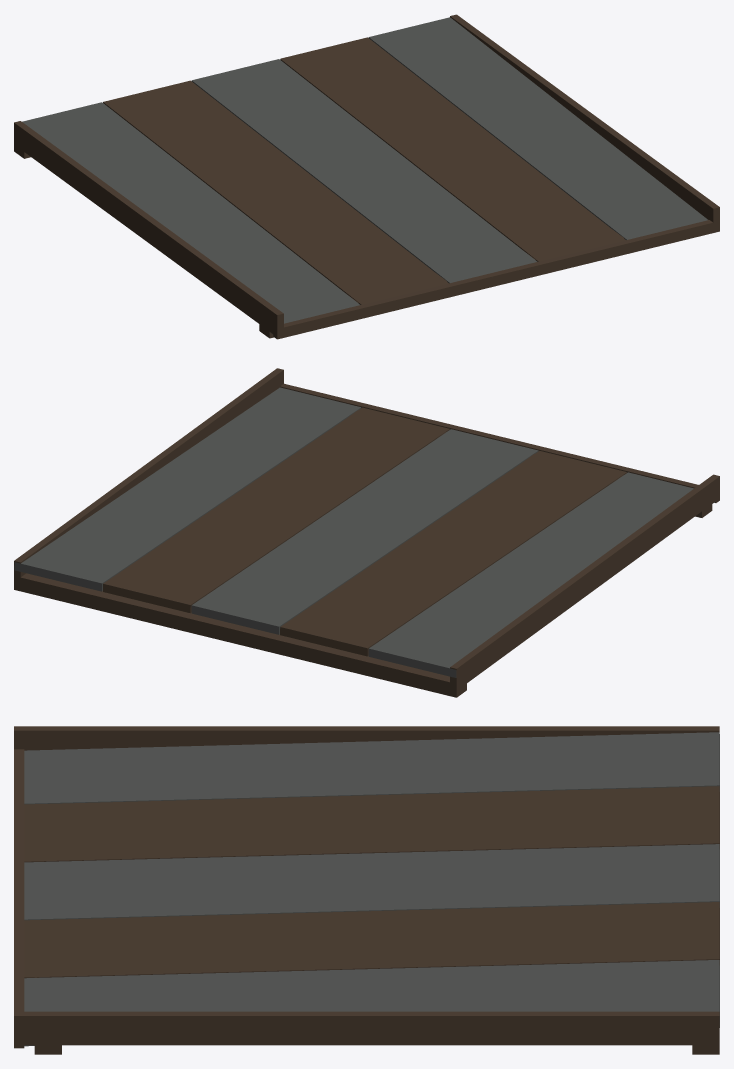
File: base_roof.glb
3 views of the same model, one above another, from view 1: azimuth 30°, elevation 25°; view 2: azimuth 150°, elevation 25°; view 3: azimuth 270°, elevation 25° (orthographic). The views are drawn at different scales.
Visible parts, largest first — view 1: base_roof; view 2: base_roof; view 3: base_roof.
Boxes of the visible parts, x1,y1,x2,y2 form: base_roof: [14, 14, 719, 339]; base_roof: [14, 368, 719, 697]; base_roof: [14, 726, 719, 1054].
Size of what is drawn, in the model's own units: 2 by 0.125 by 2.06.
Materials: 1 (1 with a texture image).
